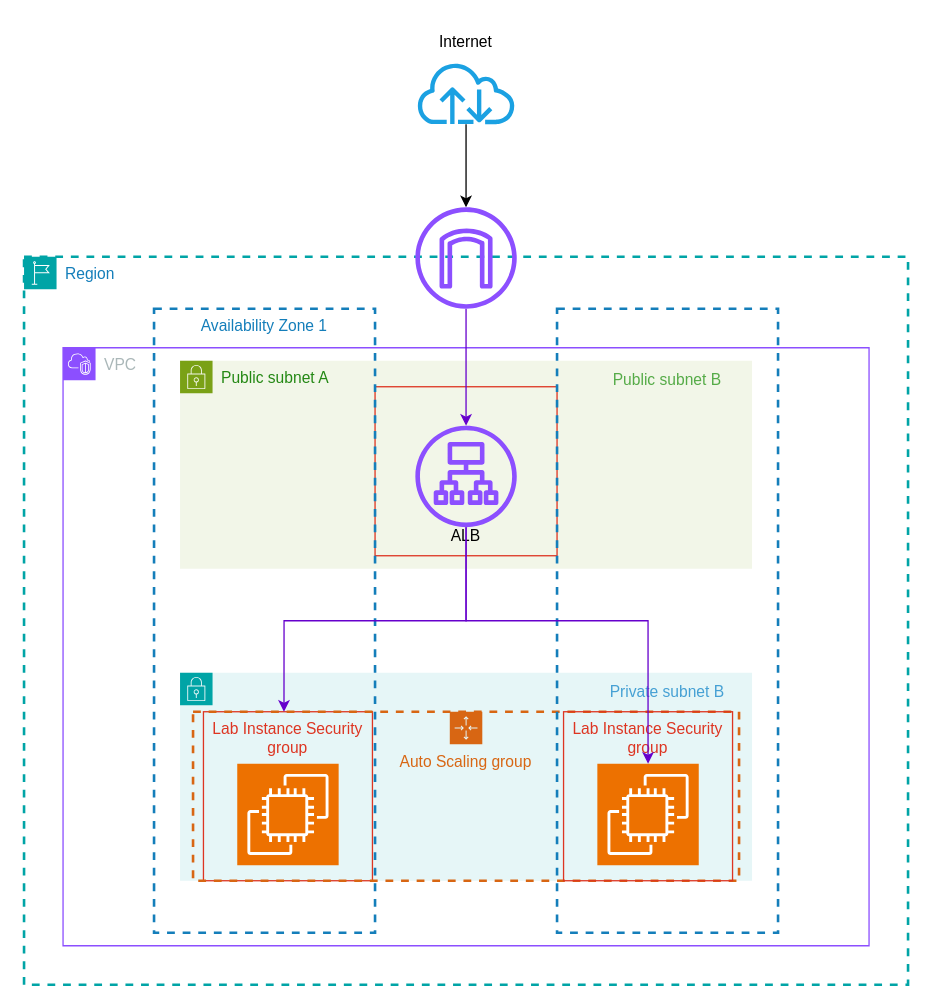
Some shapes in this 931 by 1007 pixel diagram are drawn without their labels. The box of each missing label's shape, as (x1, y1, x2, y2) in pixels:
Availability Zone 2: (555, 307, 779, 933)
Private subnet A: (179, 671, 752, 881)
Security group: (374, 385, 557, 556)
